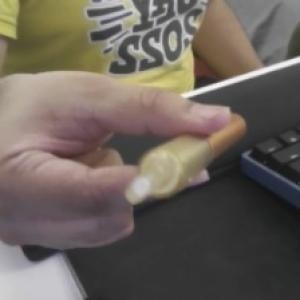Golden-E-Ciggirate: (123, 107, 249, 208)
